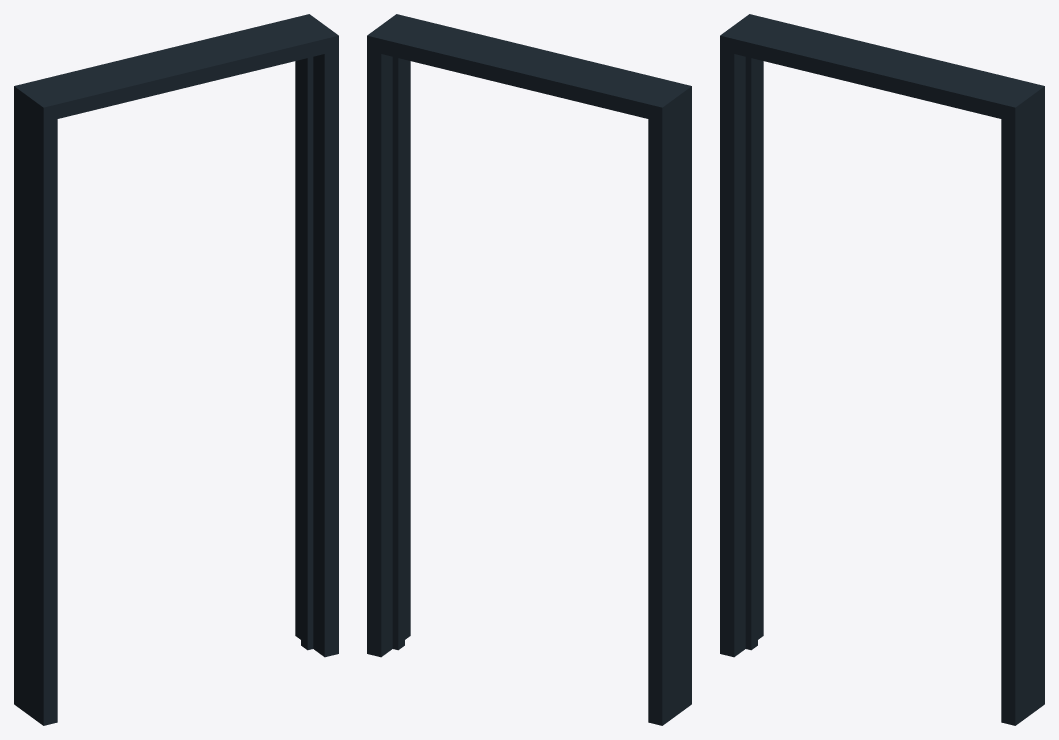
Rendered from sgc_door_frame_single.obj.
3 views of the same model, side by side, from view 1: azimuth 30°, elevation 25°; view 2: azimuth 150°, elevation 25°; view 3: azimuth 330°, elevation 25° (orthographic).
Visible parts, largest first — view 1: Door_Frame_Single; view 2: Door_Frame_Single; view 3: Door_Frame_Single.
Boxes of the visible parts, box(x1,y1,x2,y2) form: Door_Frame_Single: box(14, 14, 338, 725); Door_Frame_Single: box(367, 14, 691, 725); Door_Frame_Single: box(720, 14, 1044, 725).
Size of the model in its own units: 1.32 by 2.64 by 0.2286.
